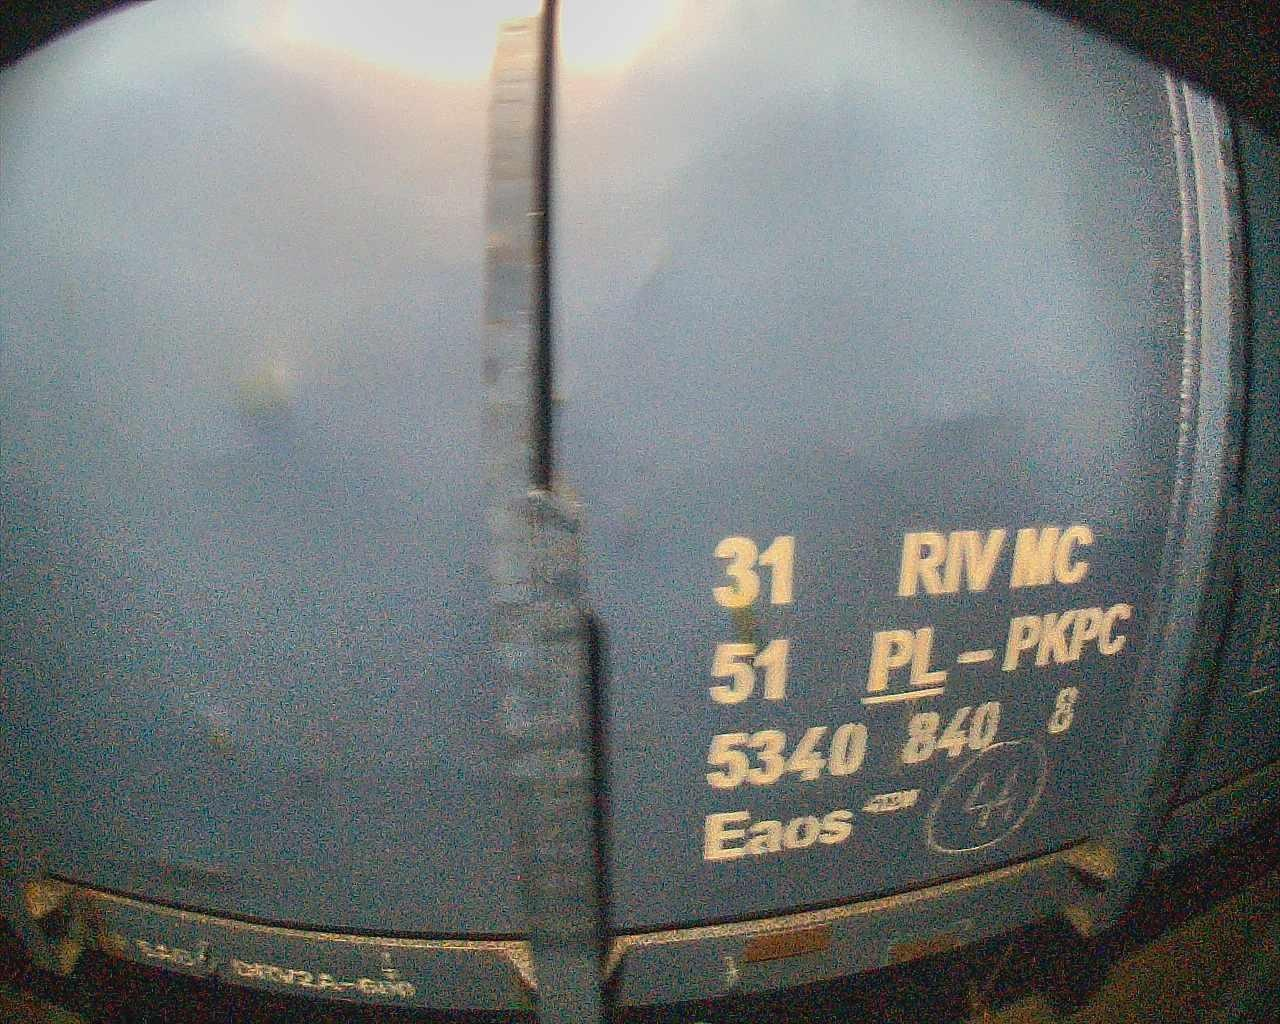UIC: (696, 523, 1132, 864)
